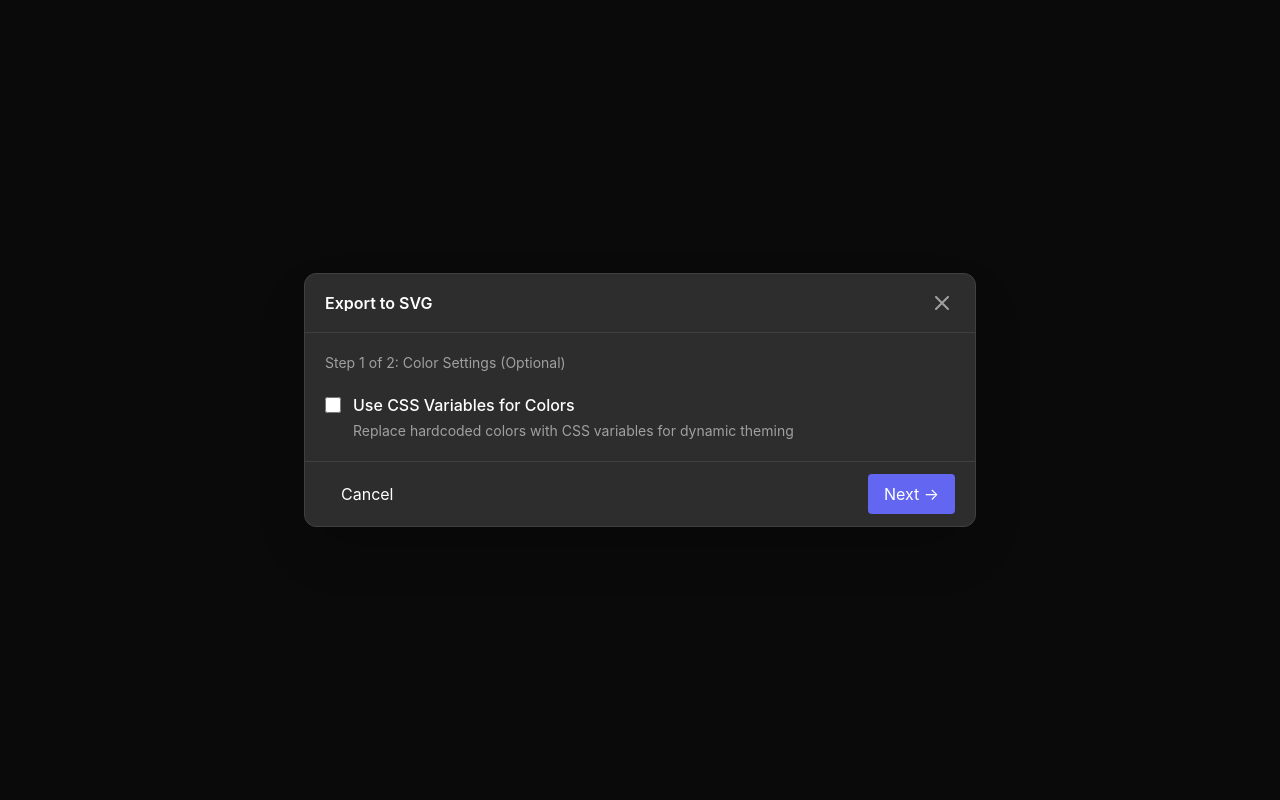
it: ExportSVGModal › step navigation › clicking "← Back" from Step 2 returns to Step 1
Click the button "Next →".
click(911, 494)  # box 868,474 -> 955,514
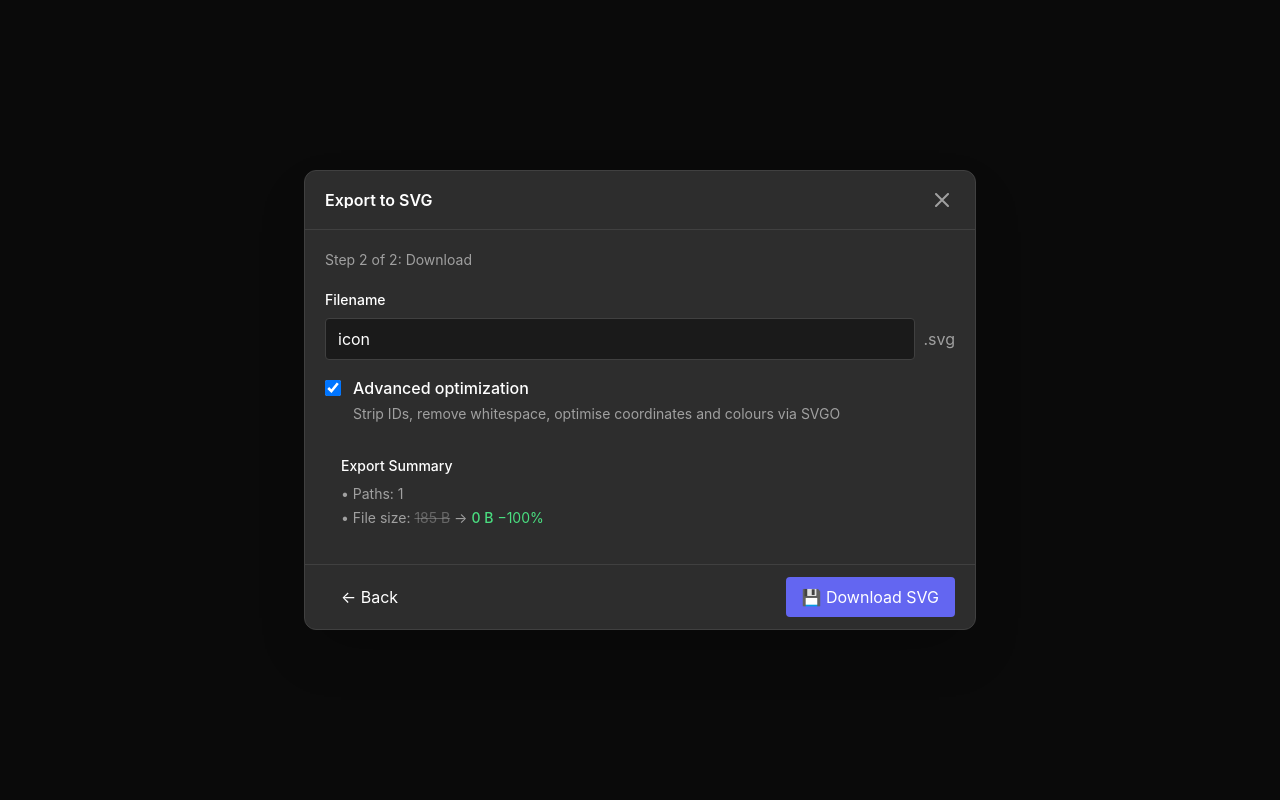
Click the button "← Back".
click(370, 597)  # box 325,577 -> 414,617
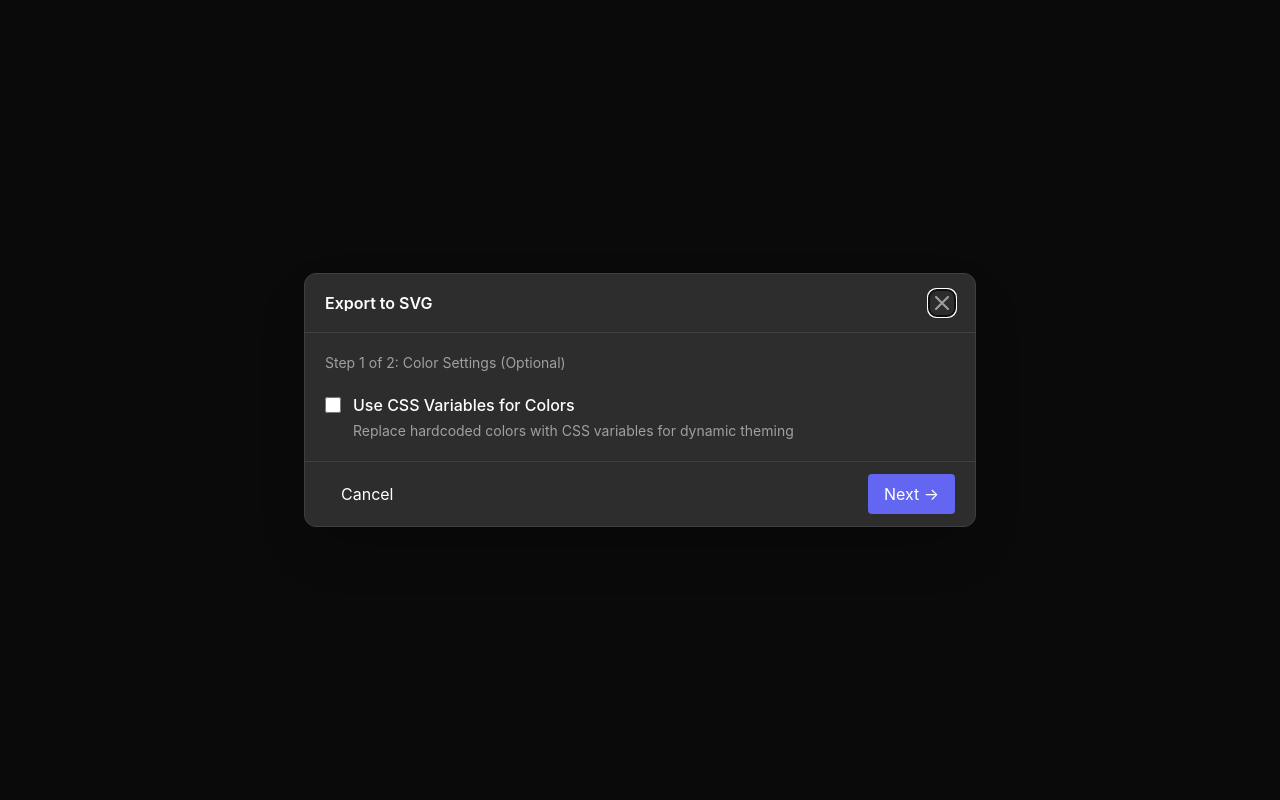
Result: the button "Next →" is shown at 868,474 -> 955,514
